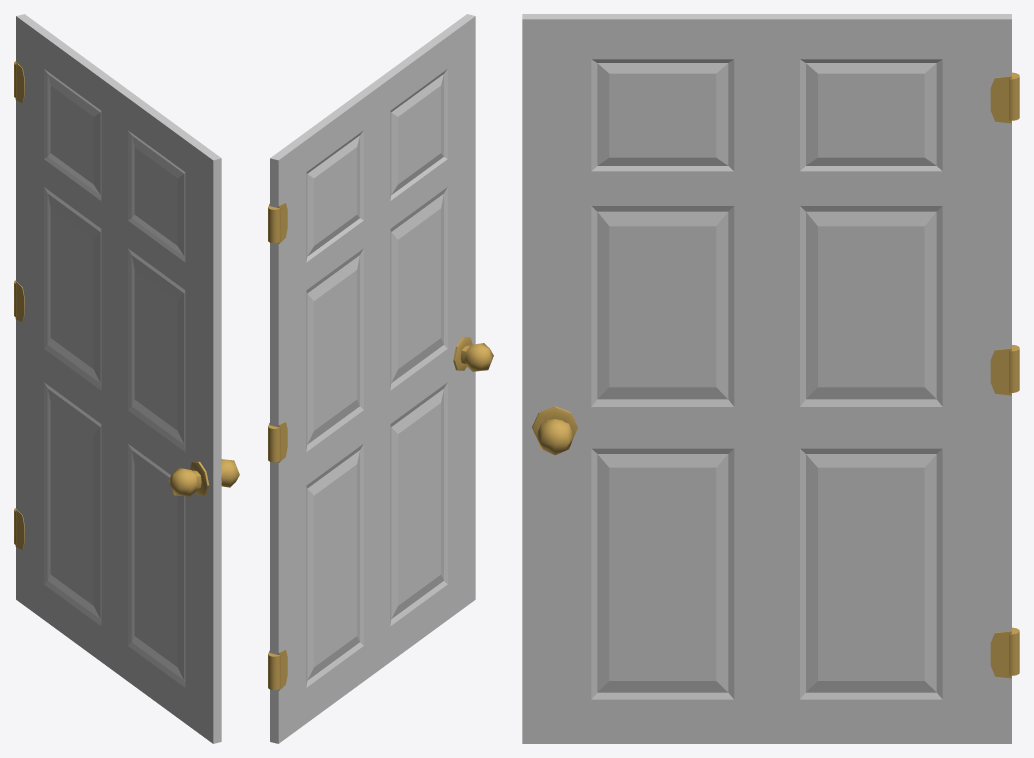
File: Door.fbx
The picture shows the model from 3 angles, left to right: view 1: azimuth 30°, elevation 25°; view 2: azimuth 150°, elevation 25°; view 3: azimuth 270°, elevation 25°; orthographic projection. The views are drawn at different scales.
Visible parts, largest first — view 1: Door; view 2: Door; view 3: Door.
Boxes of the visible parts, x1,y1,x2,y2 form: Door: [14, 14, 239, 743]; Door: [268, 14, 493, 743]; Door: [522, 14, 1019, 743].
Bounding box in the file's own units: 0.375 × 3.14 × 1.95.
